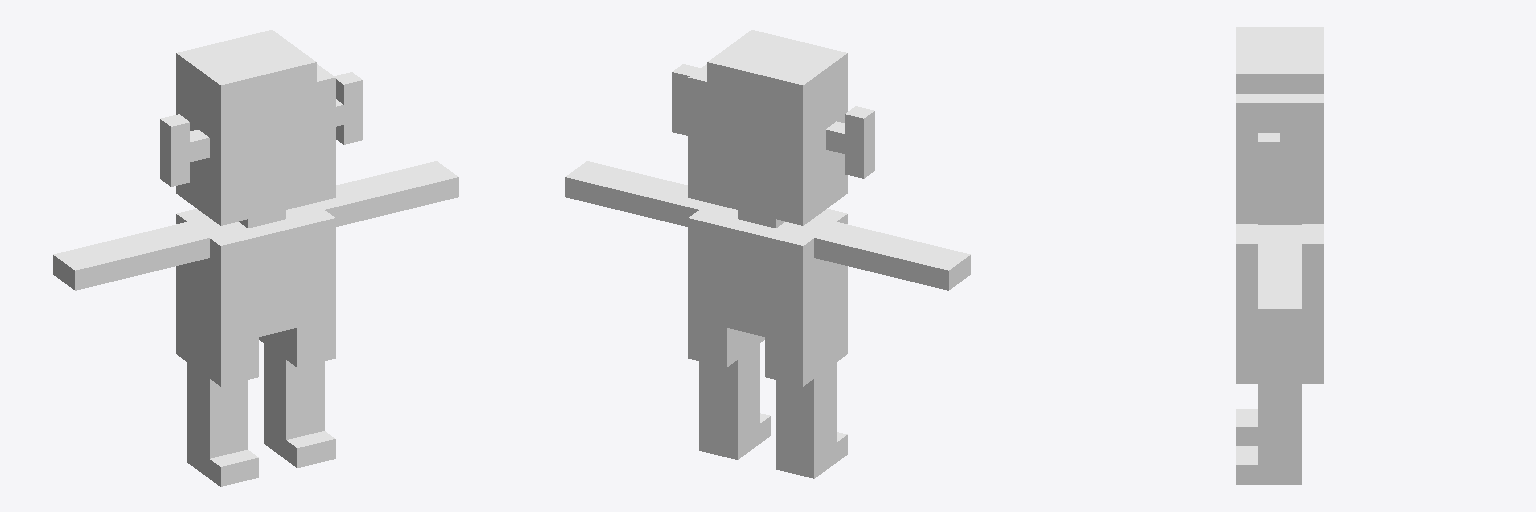
File: franken.obj
3 views of the same model, side by side, from view 1: azimuth 30°, elevation 25°; view 2: azimuth 150°, elevation 25°; view 3: azimuth 270°, elevation 25° (orthographic).
Visible parts, largest first — view 1: object 1; view 2: object 1; view 3: object 1.
Part boxes in pixels (left/top/right/bottom): object 1: left=53, top=30, right=458, bottom=486; object 1: left=565, top=30, right=970, bottom=478; object 1: left=1236, top=27, right=1323, bottom=484.
Bounding box in the file's own units: 2 × 2 × 0.4.